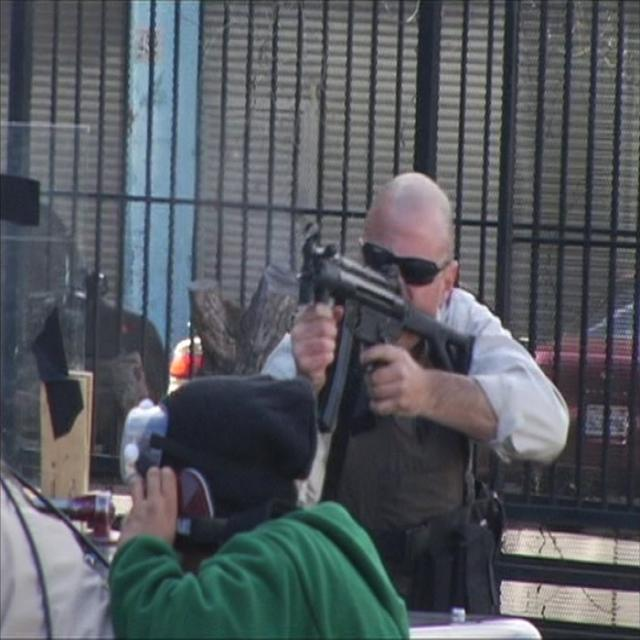gun-knife-thesis - v11 Yolov5 augmented: (294, 208, 481, 432)
